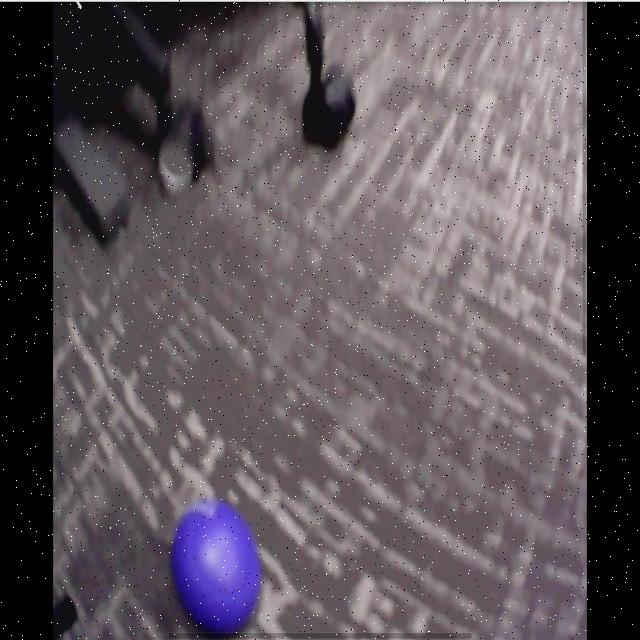ball: (175, 505, 262, 635)
